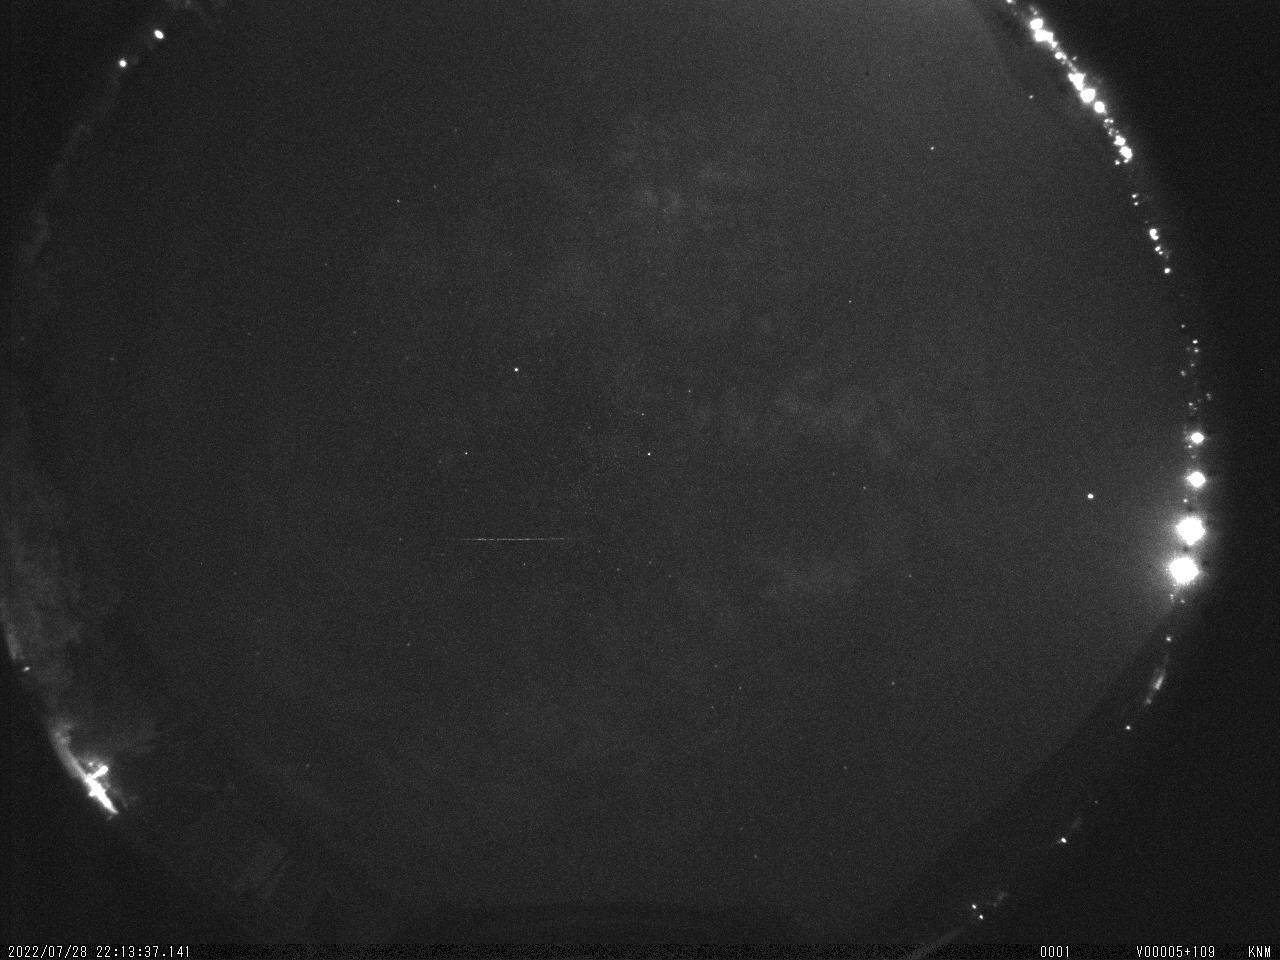Meteor: (432, 528, 598, 552)
